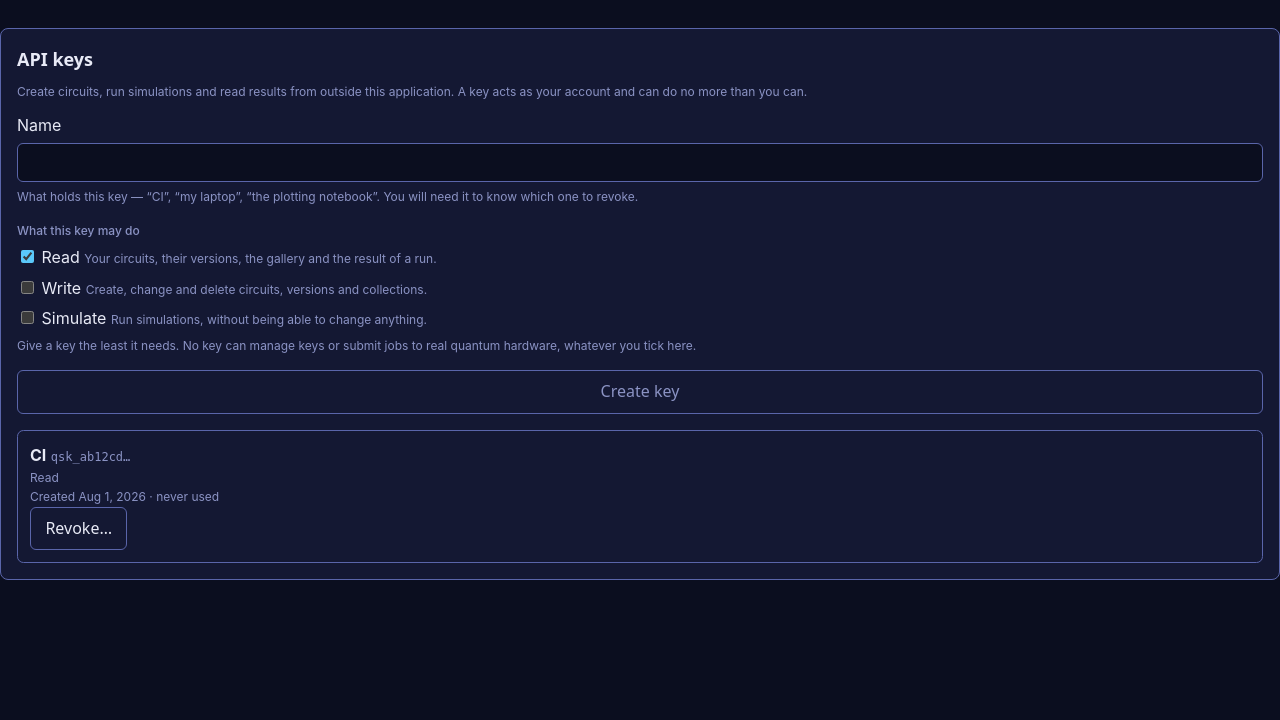
Test: revoking › can be changed one’s mind about, without a request
Expected: the text "CI" is shown, [30,445,46,465]
Click the button "Revoke…" at (79, 528), box [30,507,128,550]
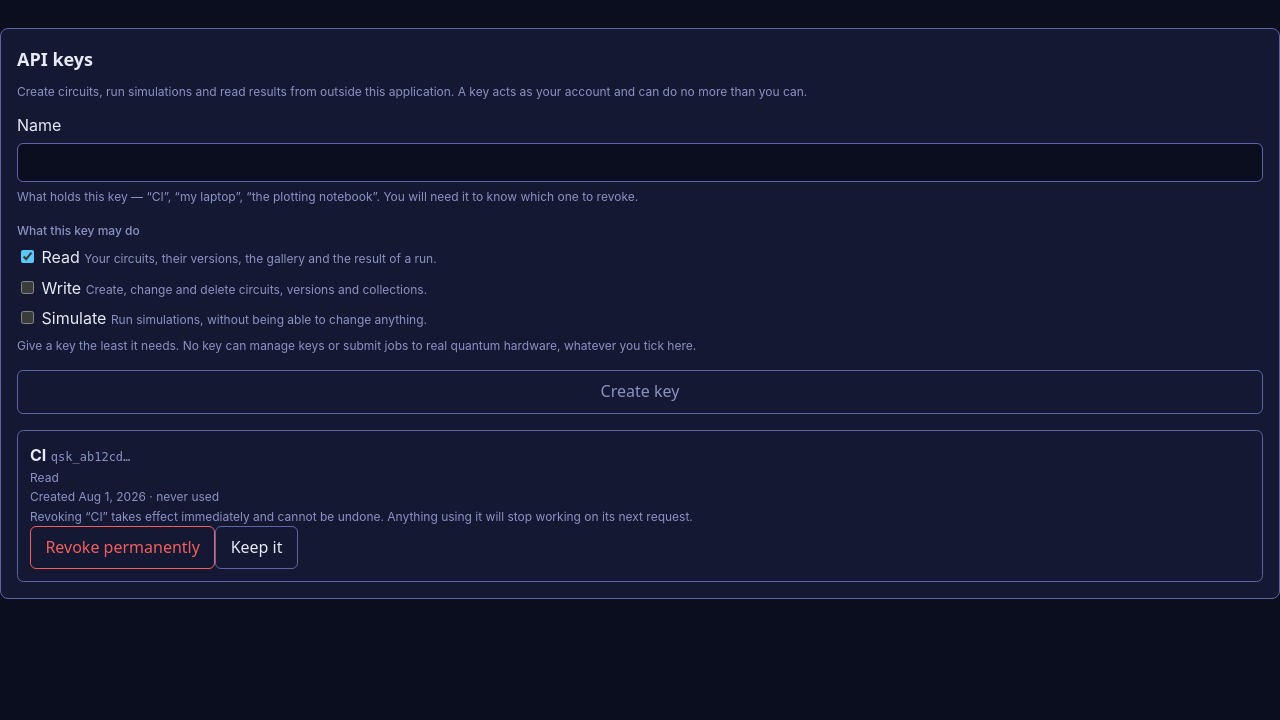
Click the button "Keep it" at (257, 548), box [215,526,298,569]
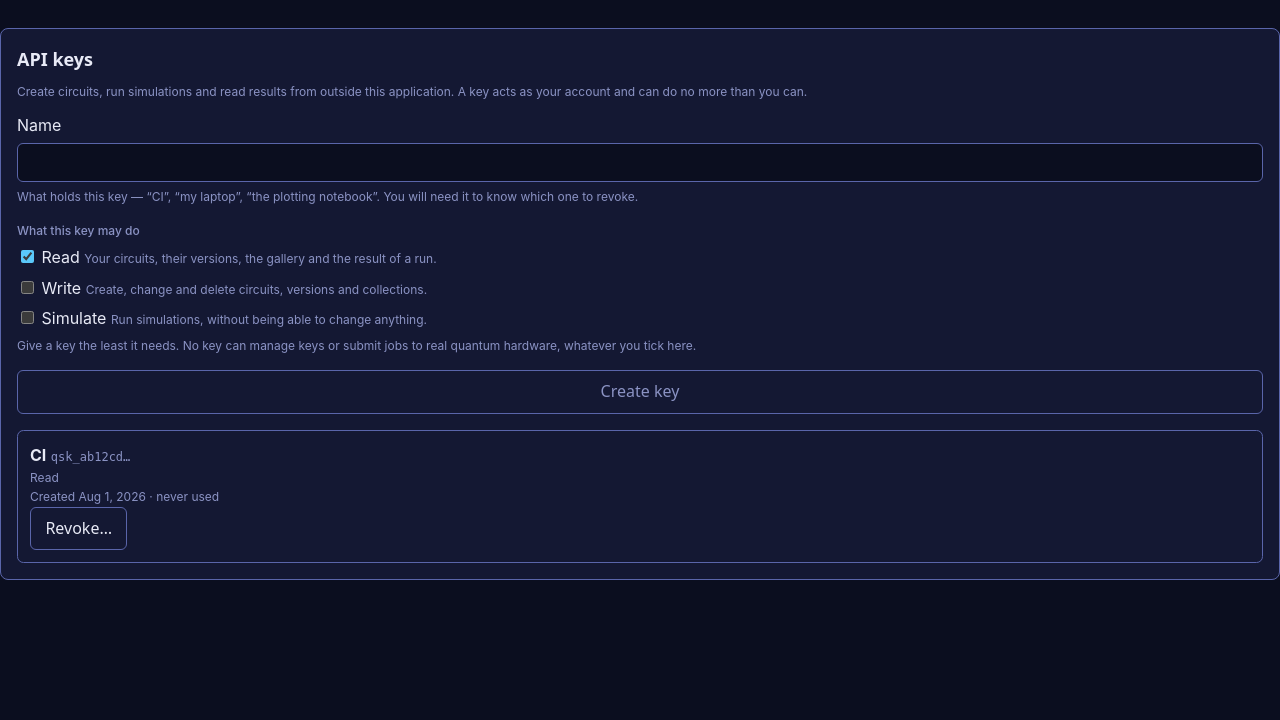
Expected: the button "Revoke…" is shown, [30,507,128,550]
